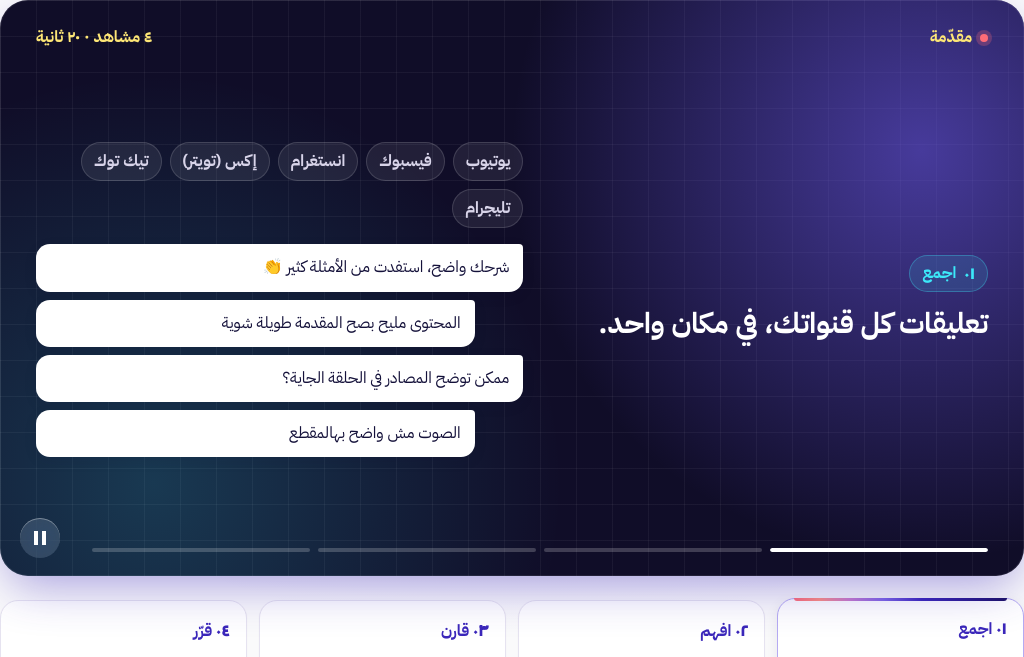
Test: IntroPlayer › can be paused and played again
Step 1. Click the button named "إيقاف المقدّمة مؤقتًا" → [40, 538], box [20, 518, 60, 558]
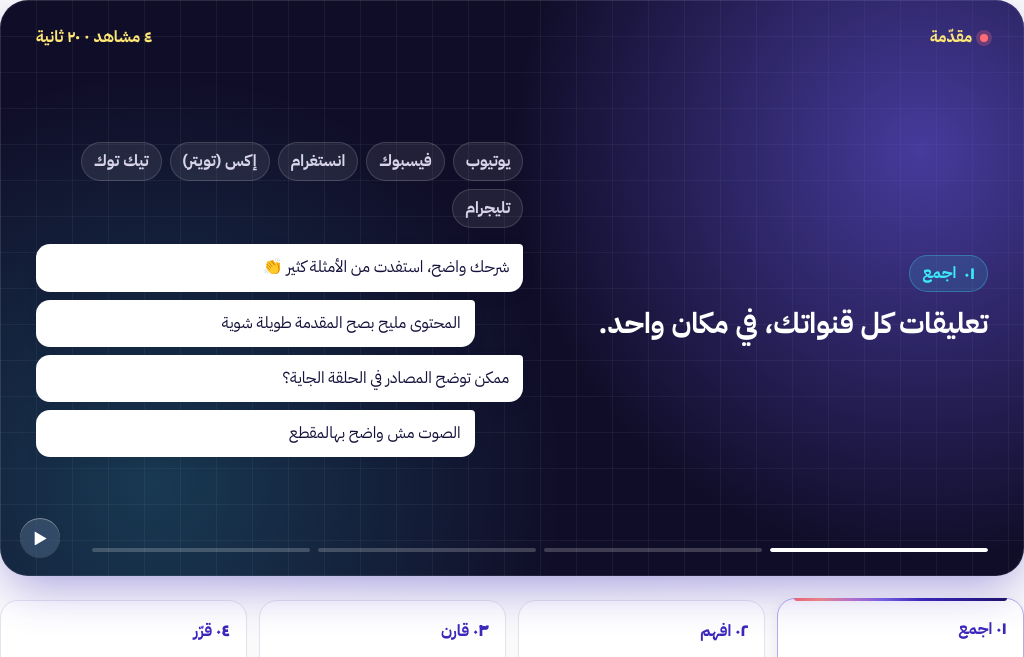
Step 2. Click the button named "تشغيل المقدّمة" → [40, 538], box [20, 518, 60, 558]
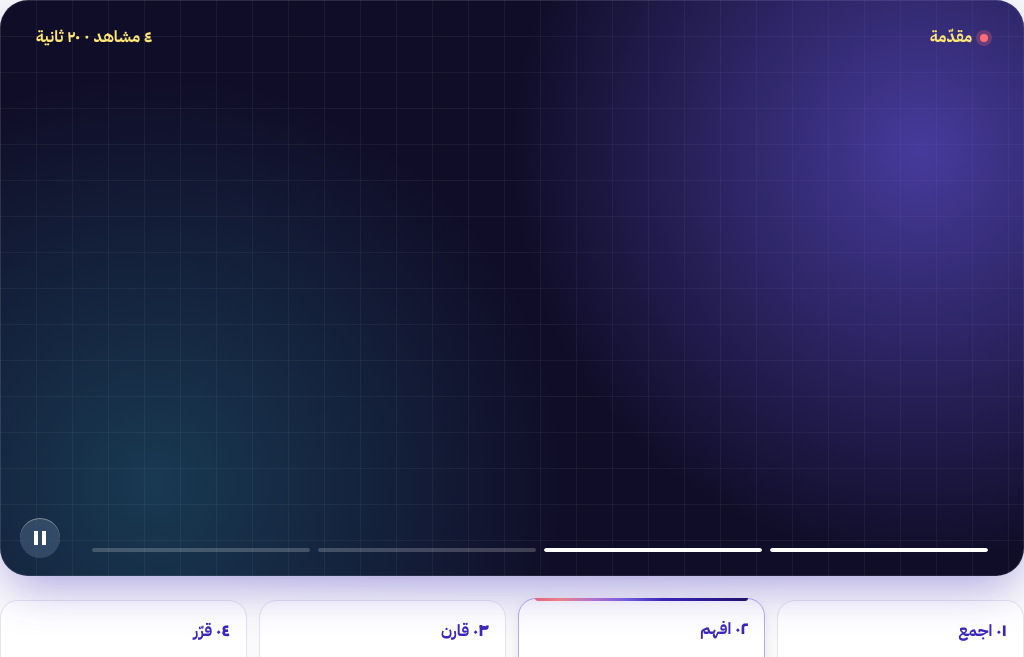
Check: the button named "إيقاف المقدّمة مؤقتًا" is shown, box [20, 518, 60, 558]
